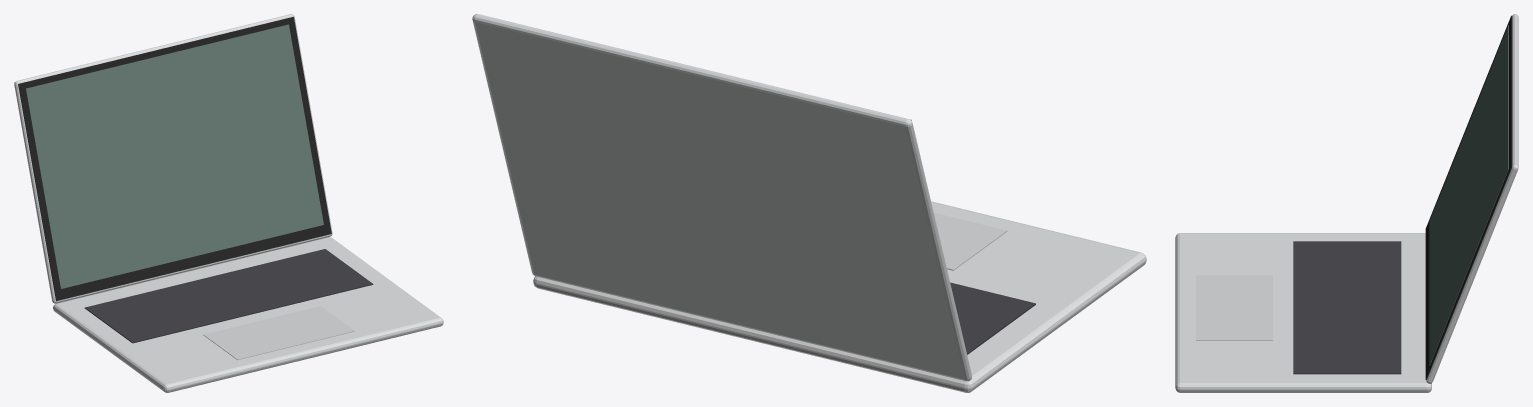
The model's file is mac.glb.
3 views of the same model, side by side, from view 1: azimuth 30°, elevation 25°; view 2: azimuth 150°, elevation 25°; view 3: azimuth 270°, elevation 25° (orthographic). The views are drawn at different scales.
Visible parts, largest first — view 1: screen, base, keyboard, bezel, trackpad, lid; view 2: lid, base, keyboard, trackpad; view 3: base, keyboard, screen, trackpad, lid, bezel.
Boxes of the visible parts, x1,y1,x2,y2 form: screen: (26, 24, 323, 288); base: (53, 237, 443, 392); keyboard: (84, 249, 373, 343); bezel: (18, 16, 331, 301); trackpad: (203, 306, 354, 360); lid: (14, 14, 332, 303); lid: (472, 14, 971, 381); base: (533, 201, 1146, 392); keyboard: (950, 282, 1035, 354); trackpad: (934, 212, 1007, 270); base: (1175, 233, 1431, 392); keyboard: (1293, 241, 1401, 374); screen: (1429, 25, 1508, 365); trackpad: (1196, 275, 1272, 340); lid: (1426, 14, 1518, 383); bezel: (1425, 15, 1511, 379).
Size of the model in its own units: 0.313 by 0.2168 by 0.2955.
